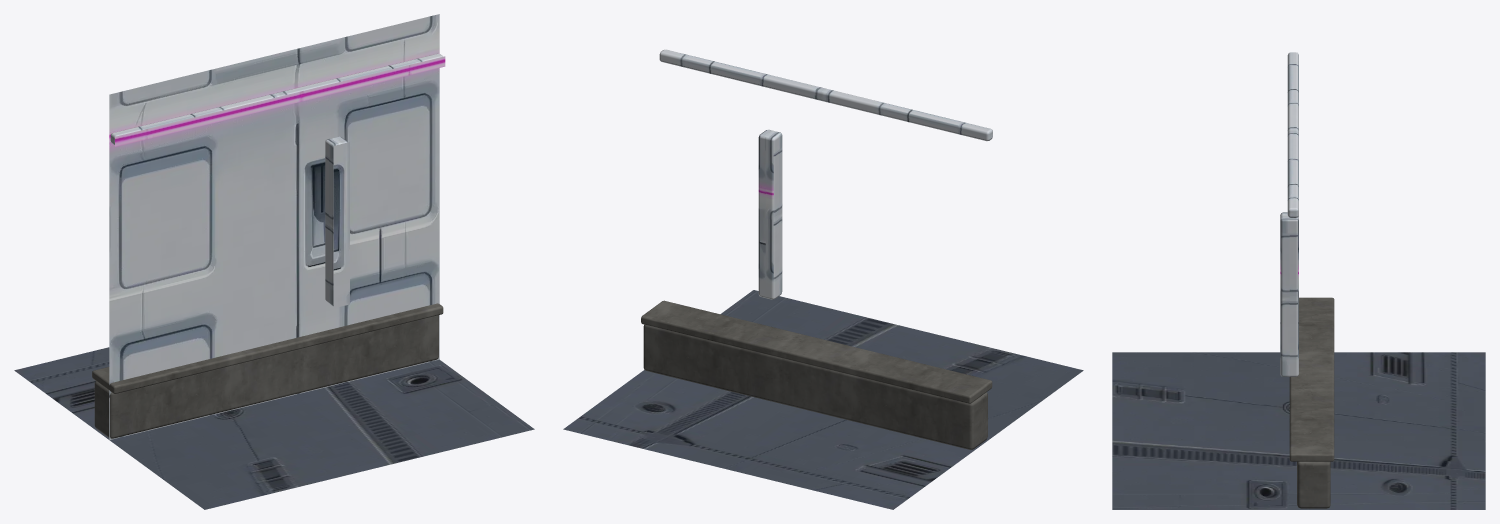
Rendered from town_sfPanel.glb.
3 views of the same model, side by side, from view 1: azimuth 30°, elevation 25°; view 2: azimuth 150°, elevation 25°; view 3: azimuth 270°, elevation 25° (orthographic). The views are drawn at different scales.
Visible parts, largest first — view 1: prop (×3); view 2: prop (×3); view 3: prop (×3).
Part boxes in pixels (x1=…): prop (×3): x1=14, y1=14, x2=534, y2=509; prop (×3): x1=563, y1=49, x2=1083, y2=509; prop (×3): x1=1112, y1=52, x2=1485, y2=509.
Bounding box in the file's own units: 1 × 1 × 1.
3 materials, 3 textured.
